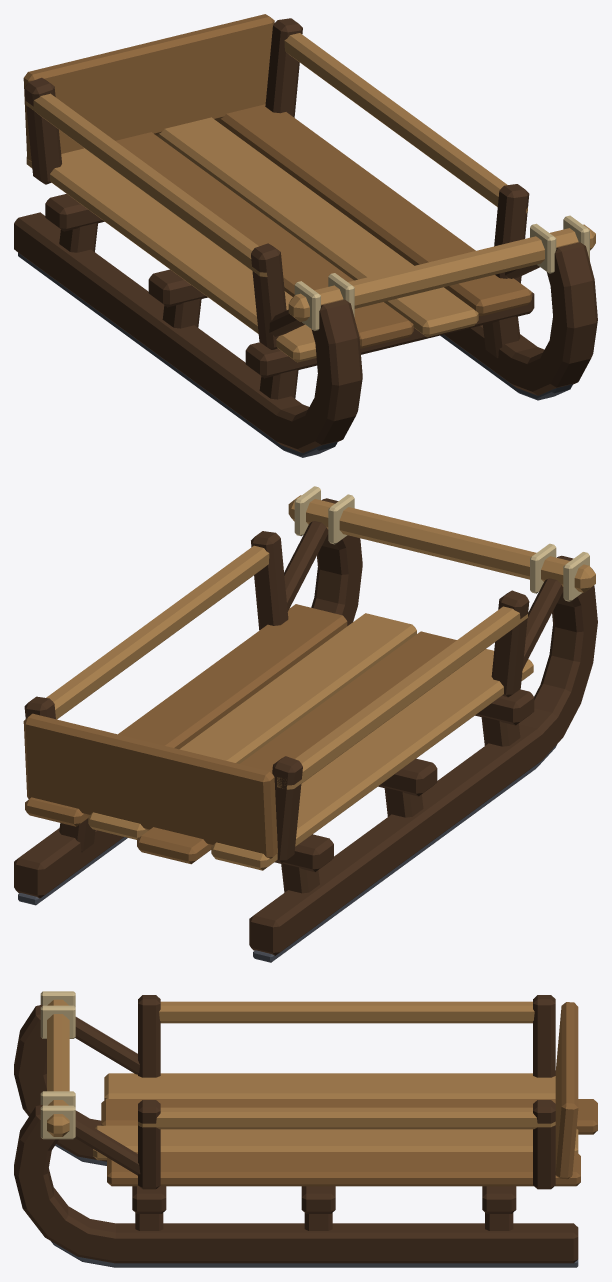
File: sled.glb
The picture shows the model from 3 angles, top to bottom: view 1: azimuth 30°, elevation 25°; view 2: azimuth 150°, elevation 25°; view 3: azimuth 270°, elevation 25°; orthographic projection. The views are drawn at different scales.
Visible parts, largest first — view 1: sled; view 2: sled; view 3: sled.
Part boxes in pixels (left/top/right/bottom): sled: left=14, top=14, right=597, bottom=457; sled: left=14, top=486, right=597, bottom=962; sled: left=14, top=991, right=597, bottom=1267.
Bounding box in the file's own units: 0.54 × 0.3224 × 1.03.
